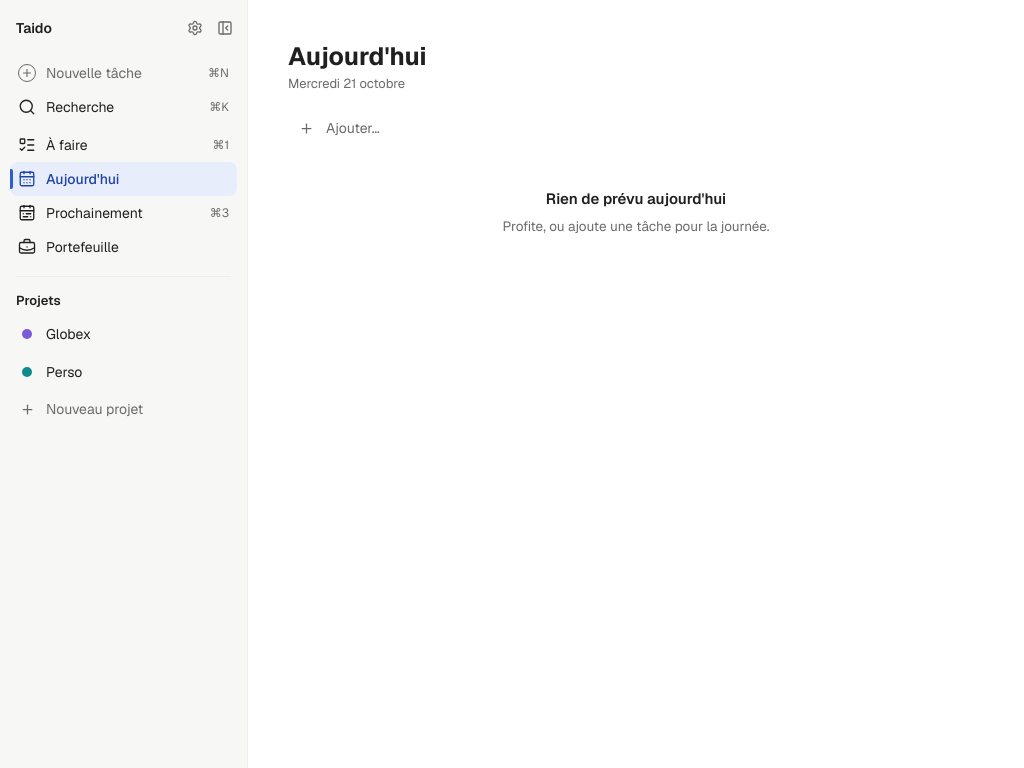
Sidebar navigation › opens ⌘K from the « Recherche » row (magnifier + label)
Click the button "Recherche ⌘K".
click(124, 107)  # box x1=10 y1=90 x2=237 y2=124
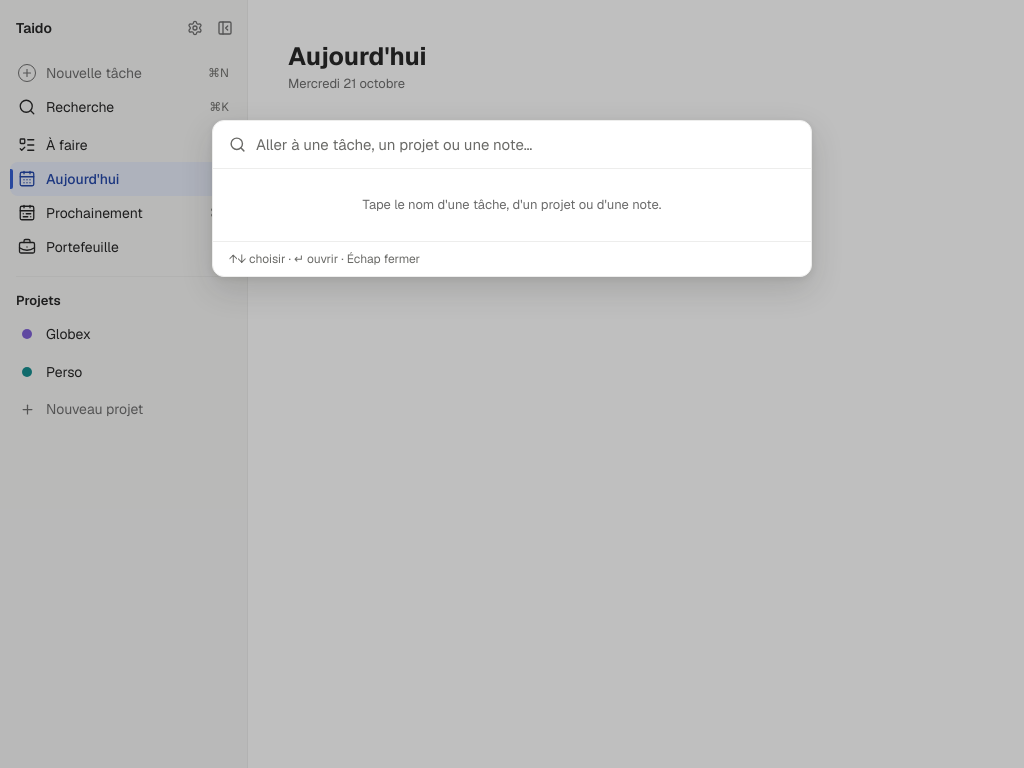
Result: the dialog named "Rechercher" is shown at x1=212 y1=120 x2=812 y2=276
